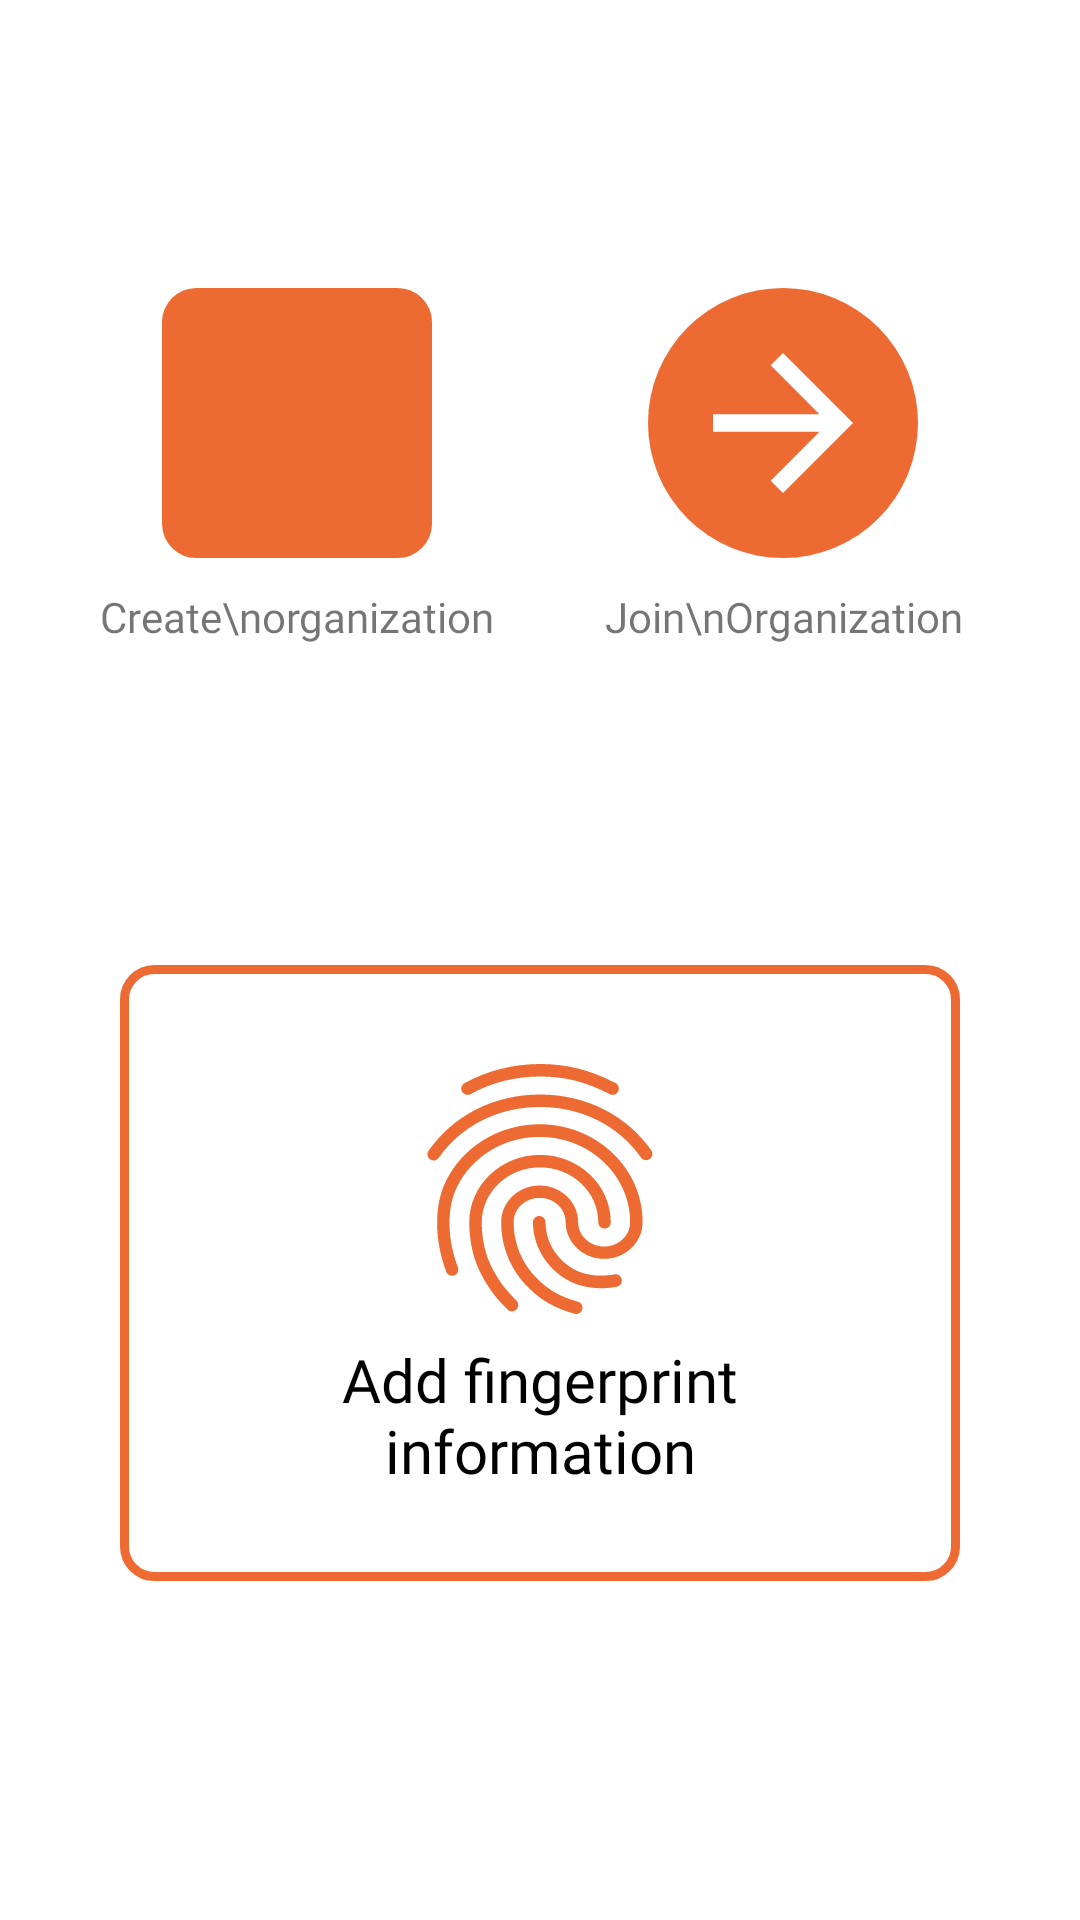

Point at icon controls on the screen. Image size 1080×1920, points as (x,y).
arrow forward: (783,423)
